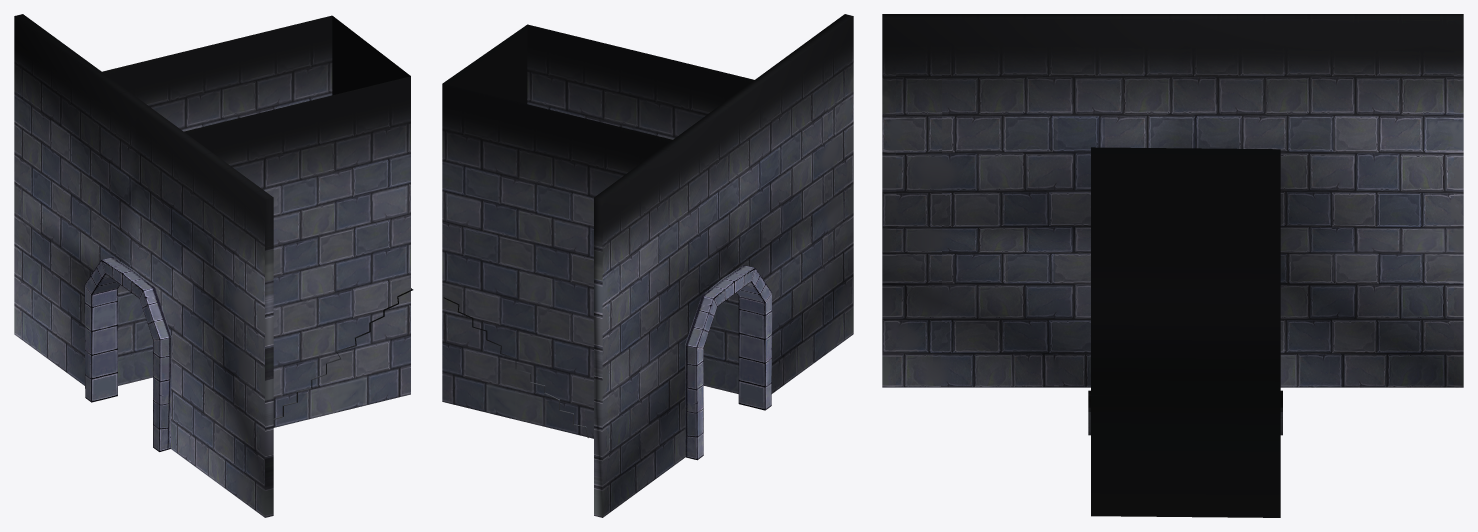
File: dungeon_entrance.fbx
3 renders of one model, left to right at view 1: azimuth 30°, elevation 25°; view 2: azimuth 150°, elevation 25°; view 3: azimuth 270°, elevation 25°, orthographic. The views are drawn at different scales.
Visible parts, largest first — view 1: suelo.002_Mesh.024_suelo.002_Mesh.003; view 2: suelo.002_Mesh.024_suelo.002_Mesh.003; view 3: suelo.002_Mesh.024_suelo.002_Mesh.003.
Boxes of the visible parts, left/top/right/bottom form: suelo.002_Mesh.024_suelo.002_Mesh.003: left=14, top=14, right=413, bottom=517; suelo.002_Mesh.024_suelo.002_Mesh.003: left=442, top=14, right=853, bottom=517; suelo.002_Mesh.024_suelo.002_Mesh.003: left=882, top=14, right=1463, bottom=517.
Size of the model in its own units: 578 by 700 by 1000.
